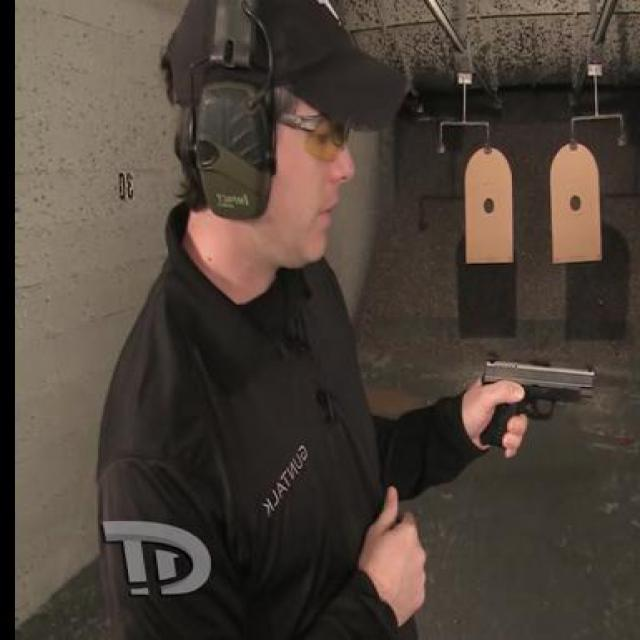Gun: (477, 352, 602, 452)
